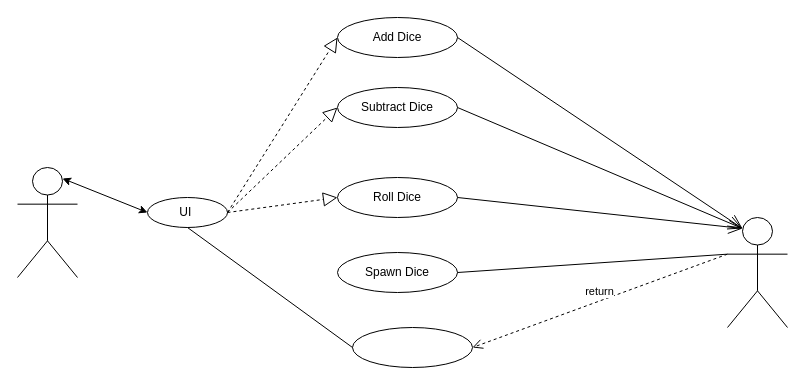
Image size: 805x385. Some labels were removed from this diagram. The shapes that lost their labels are listed below. From the top down, each one's centre as x and y in pixels, then its label:
At point 47,222: "User".
At point 757,272: "Simulator".
At point 412,347: "Display Result".
